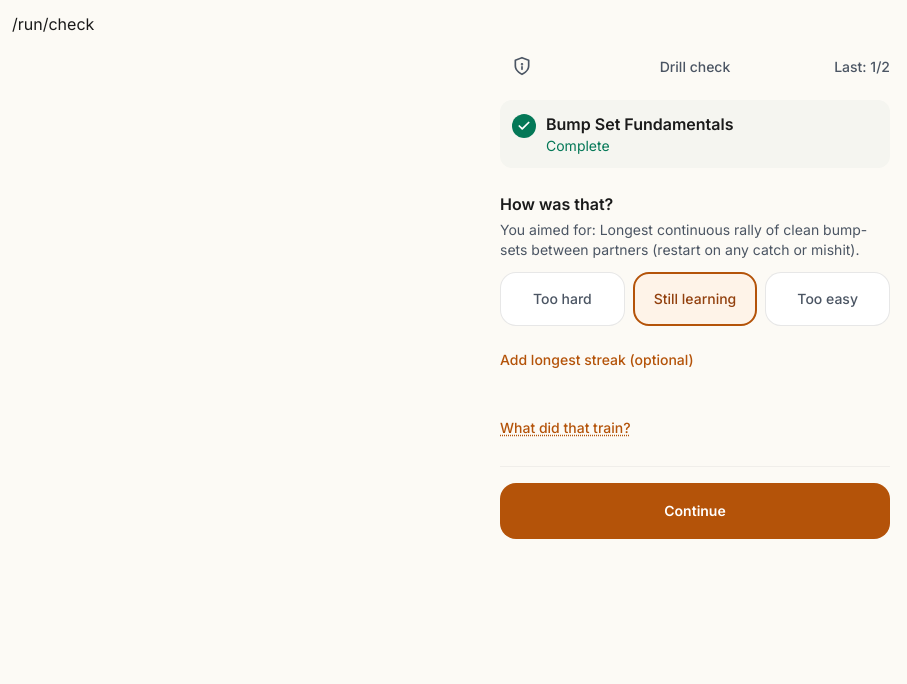
it: DrillCheckScreen per-drill capture (Item 9 / D133) › Phase 2A streak path (D134) › rehydrates streakLongest from an existing draft row with metricCapture
This screenshot has width=907, height=684.
Expected: the element with test id "per-drill-capture" is shown, [500,192,890,382]
What coordinates should you click on to do the following:
click the button with test id "per-drill-add-streak"
I would click on:
 (597, 360)
Its box is [500,338,694,382].
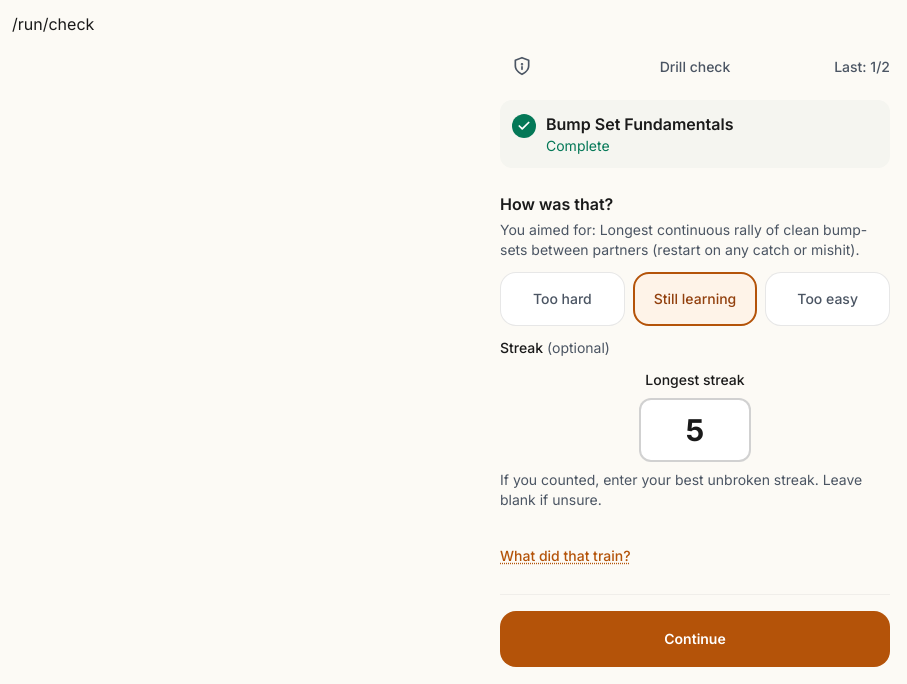
Expected: the field with test id "per-drill-streak-input" holds "5", [639,398,751,462]
